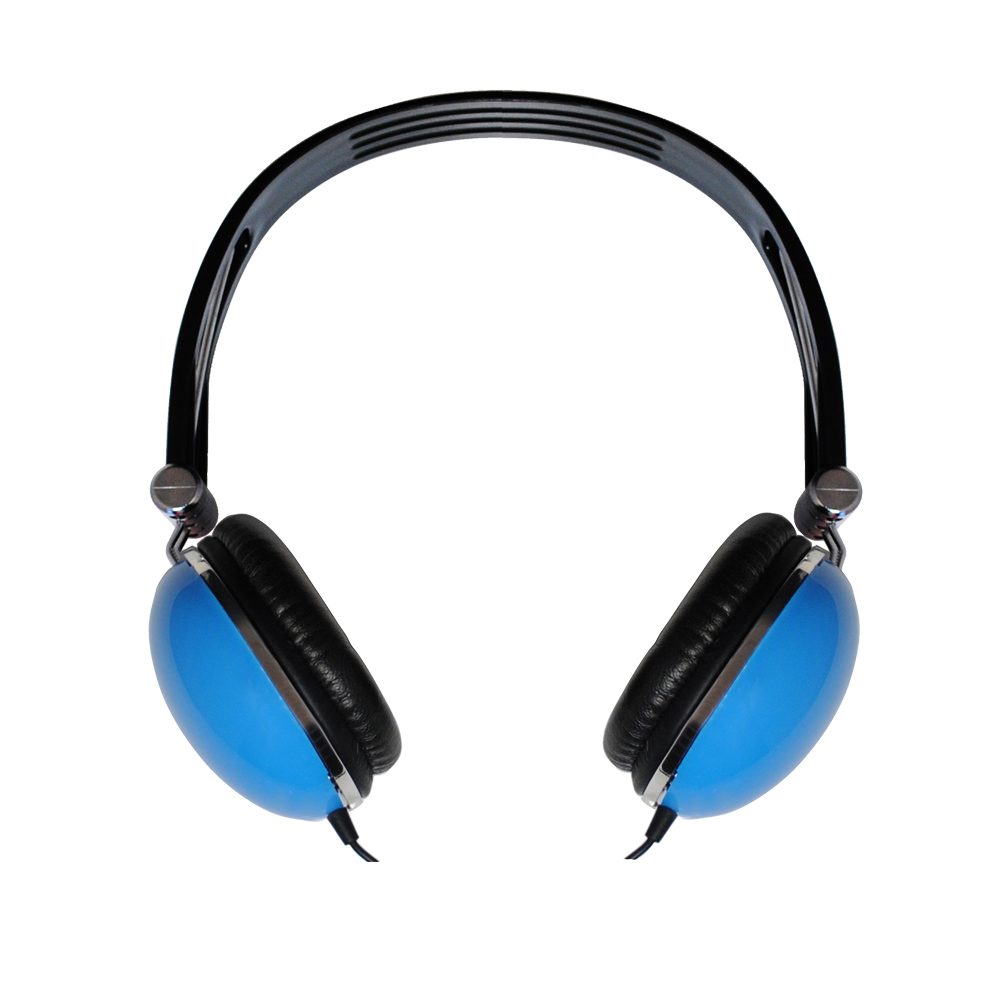headphone: (155, 87, 901, 889)
